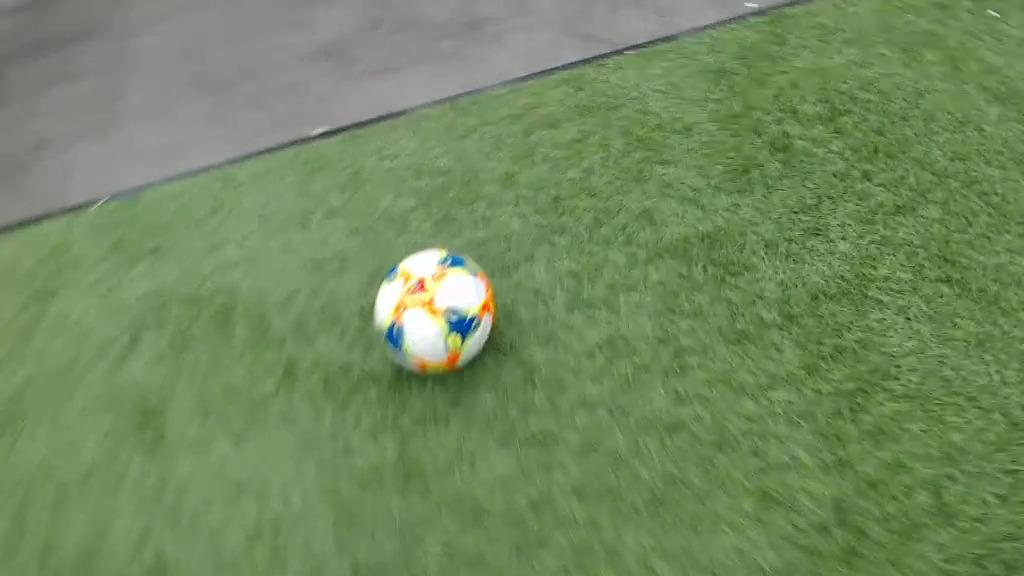ball: (376, 248, 493, 373)
